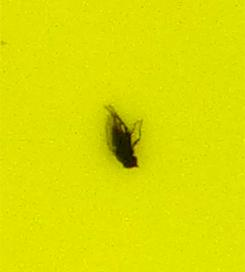Brachycera: (100, 100, 145, 172)
